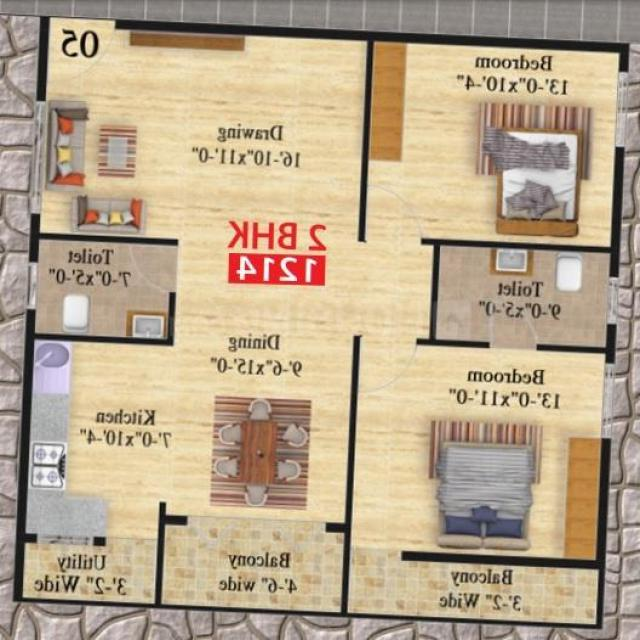Balcony-Sitout: (162, 529, 340, 607), (351, 564, 596, 615)
Bedroom: (372, 50, 619, 246)
Bedroom with Toilet: (348, 241, 612, 564)
Dining: (203, 390, 315, 512)
Enterance-Foyer: (44, 18, 112, 86)
Kitchen: (28, 345, 164, 533)
Living: (47, 31, 360, 242)
Toilet: (440, 249, 605, 345), (38, 244, 172, 335)
Utility: (24, 549, 154, 599)
